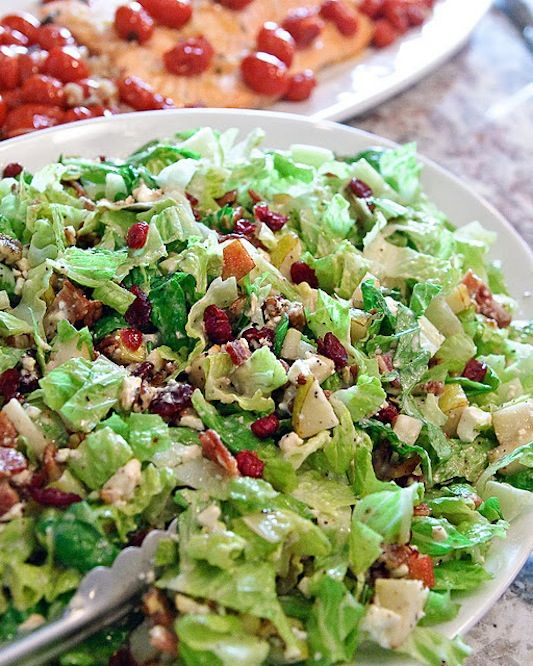chopped lettuce: (1, 154, 490, 627)
